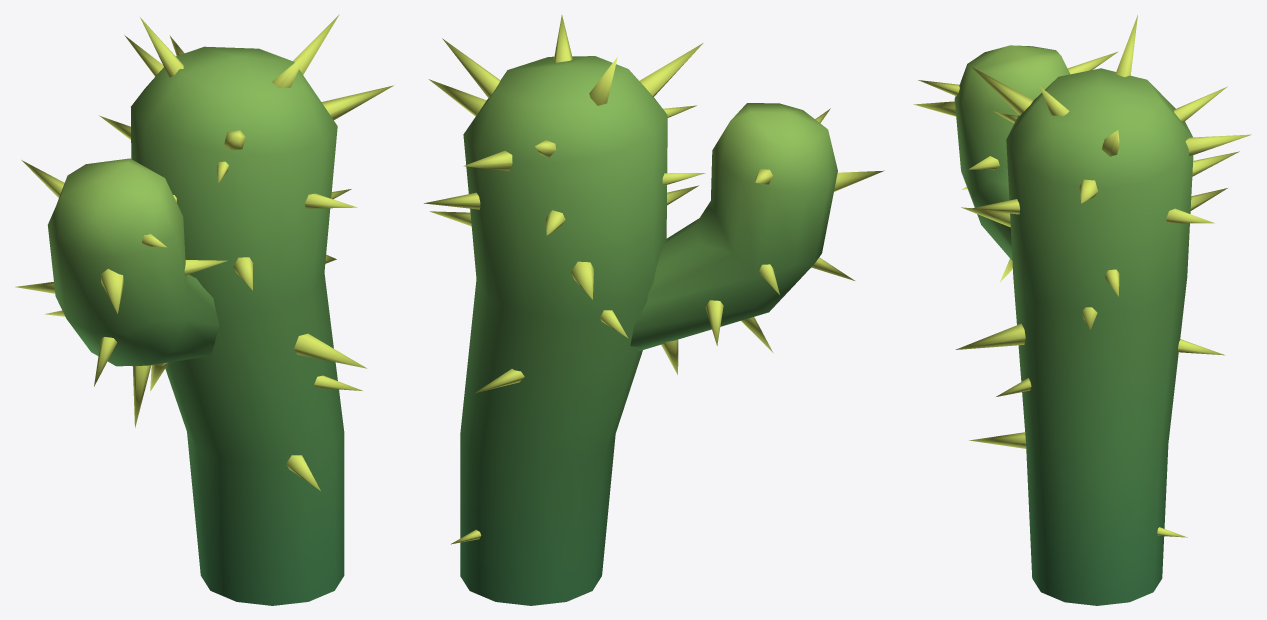
The model's file is cactus.glb.
3 views of the same model, side by side, from view 1: azimuth 30°, elevation 25°; view 2: azimuth 150°, elevation 25°; view 3: azimuth 270°, elevation 25° (orthographic). The views are drawn at different scales.
Parts seen in each view (by area): view 1: cactus; view 2: cactus; view 3: cactus.
Boxes of the visible parts, <box> form: cactus: <box>15,14,393,605</box>; cactus: <box>424,15,884,605</box>; cactus: <box>913,15,1251,605</box>.
Bounding box in the file's own units: 0.5978 × 0.8751 × 0.5225.
1 material, 1 textured.
